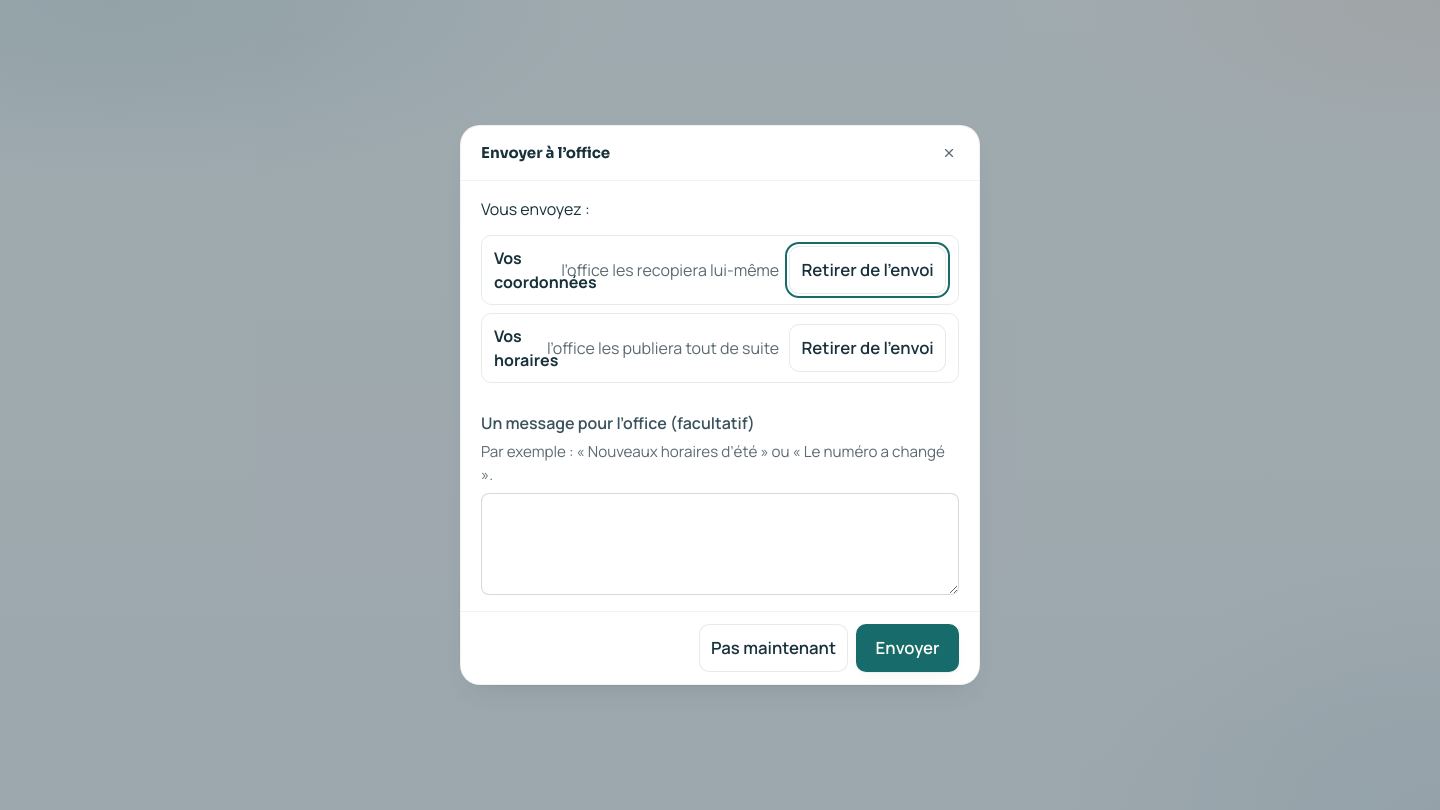
PortalSendModal › « déjà en cours » (PT409) → phrase dédiée DANS la fenêtre, et le brouillon reste intact
Click the button "Envoyer" at (908, 648), box [856,624,959,672]
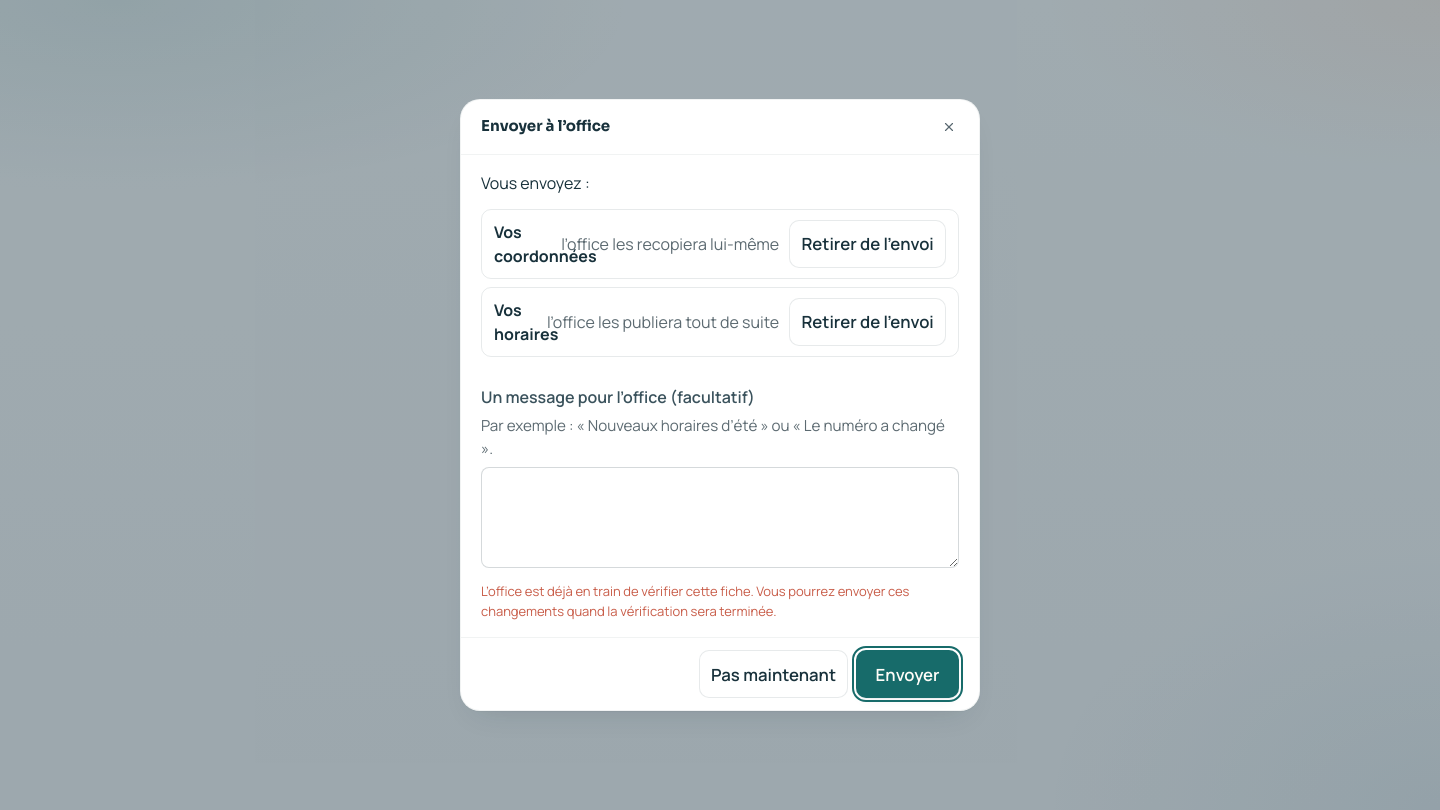
Expected: the text "L’office est déjà en train de vérifier cette fiche. Vous pourrez envoyer ces changements quand la vérification sera term" is shown, [481,582,910,620]
